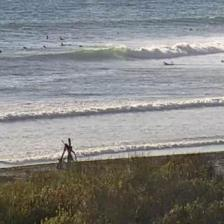surfer: (162, 61, 174, 66), (60, 42, 72, 46), (22, 46, 29, 51), (45, 35, 50, 40), (188, 28, 194, 32), (60, 37, 66, 41), (42, 45, 48, 49), (0, 49, 4, 54), (78, 45, 83, 48), (0, 30, 2, 36), (221, 60, 223, 64)
